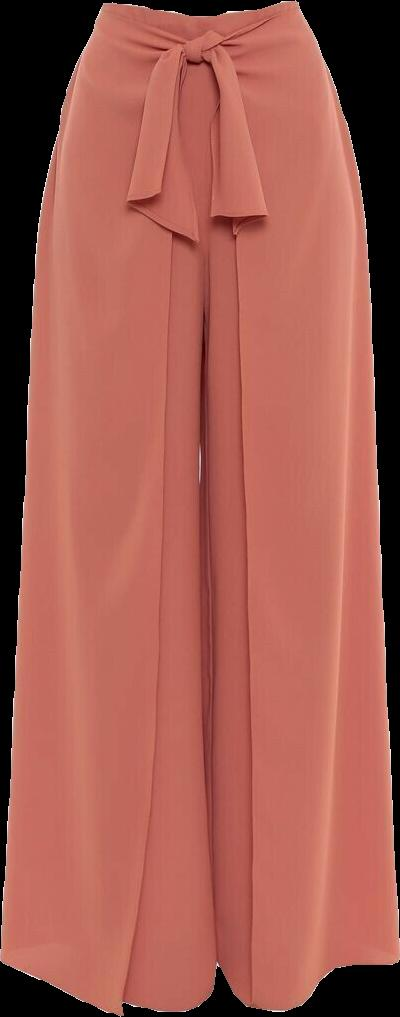Hemline: (0, 952, 225, 1016), (214, 950, 399, 1016)
Pantleg: (1, 3, 220, 1013), (202, 2, 399, 1011)
Waistline: (102, 0, 295, 38)
